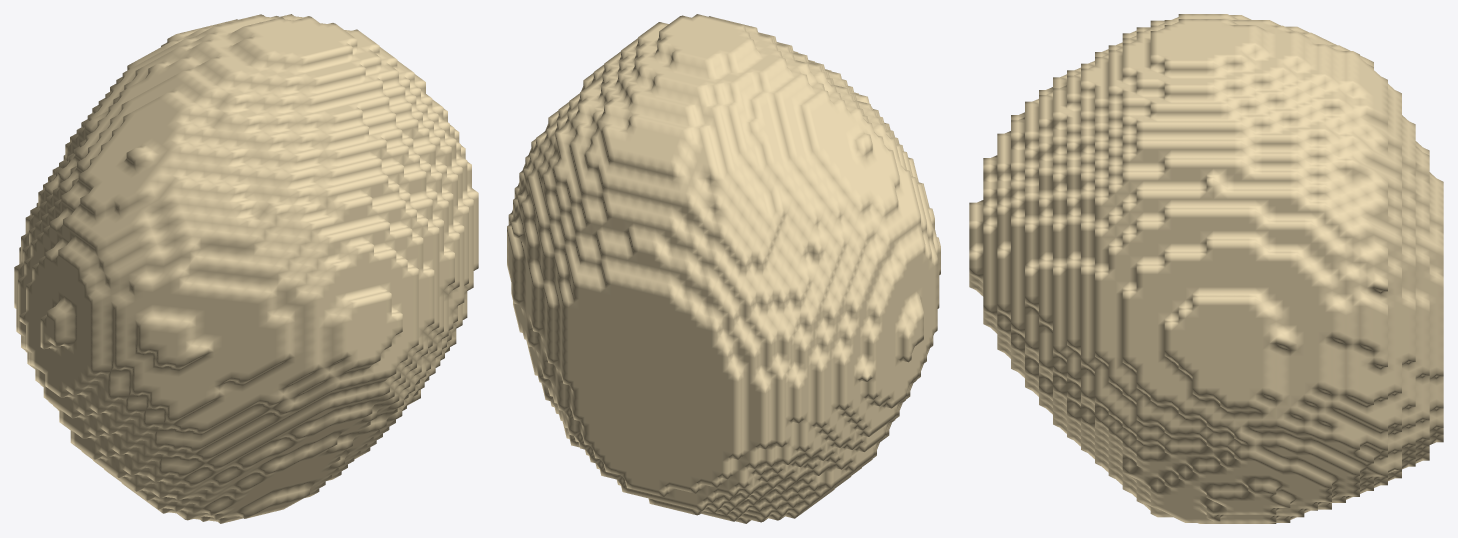
Rendered from region-13.glb.
The picture shows the model from 3 angles, left to right: view 1: azimuth 30°, elevation 25°; view 2: azimuth 150°, elevation 25°; view 3: azimuth 270°, elevation 25°; orthographic projection. The views are drawn at different scales.
Parts seen in each view (by area): view 1: digimouse-volume:13; view 2: digimouse-volume:13; view 3: digimouse-volume:13.
Part boxes in pixels (x1=…): digimouse-volume:13: x1=14, y1=14, x2=478, y2=523; digimouse-volume:13: x1=507, y1=14, x2=940, y2=523; digimouse-volume:13: x1=969, y1=14, x2=1443, y2=523.
Size of the model in its own units: 0.007 by 0.008 by 0.0068.
